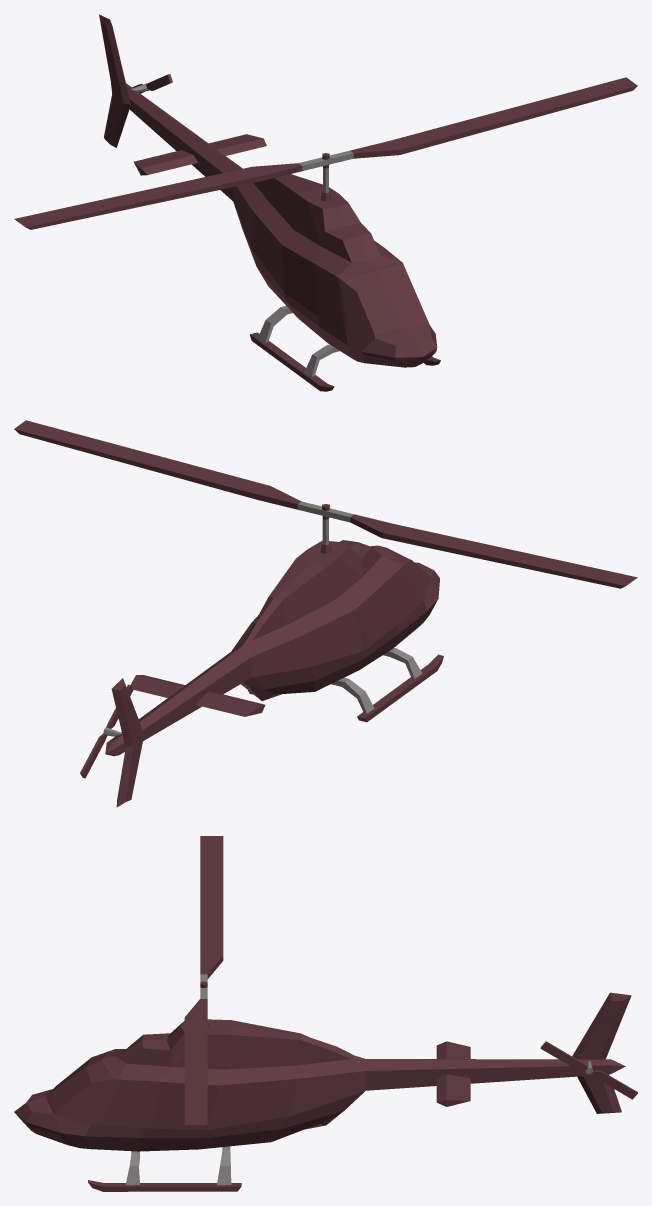
Rendered from helicopter.fbx.
3 renders of one model, top to bottom at view 1: azimuth 30°, elevation 25°; view 2: azimuth 150°, elevation 25°; view 3: azimuth 270°, elevation 25°, orthographic. The views are drawn at different scales.
Visible parts, largest first — view 1: helicopter-base, helicopter-propeller-main; view 2: helicopter-base, helicopter-propeller-main, helicopter-propeller-small; view 3: helicopter-base, helicopter-propeller-main, helicopter-propeller-small.
Boxes of the visible parts, box(x1,y1,x2,y2) form: helicopter-base: box(99, 14, 440, 391); helicopter-propeller-main: box(14, 77, 637, 229); helicopter-base: box(105, 540, 443, 807); helicopter-propeller-main: box(14, 420, 637, 588); helicopter-propeller-small: box(80, 684, 133, 778); helicopter-base: box(14, 992, 631, 1191); helicopter-propeller-main: box(184, 836, 223, 1126); helicopter-propeller-small: box(540, 1041, 637, 1099).
Bounding box in the file's own units: 10.16 × 3.01 × 9.26.
